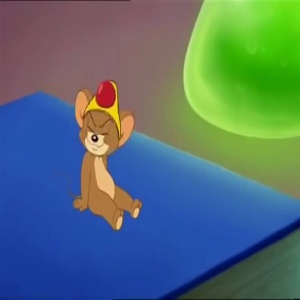Jerry: (63, 75, 142, 158)
